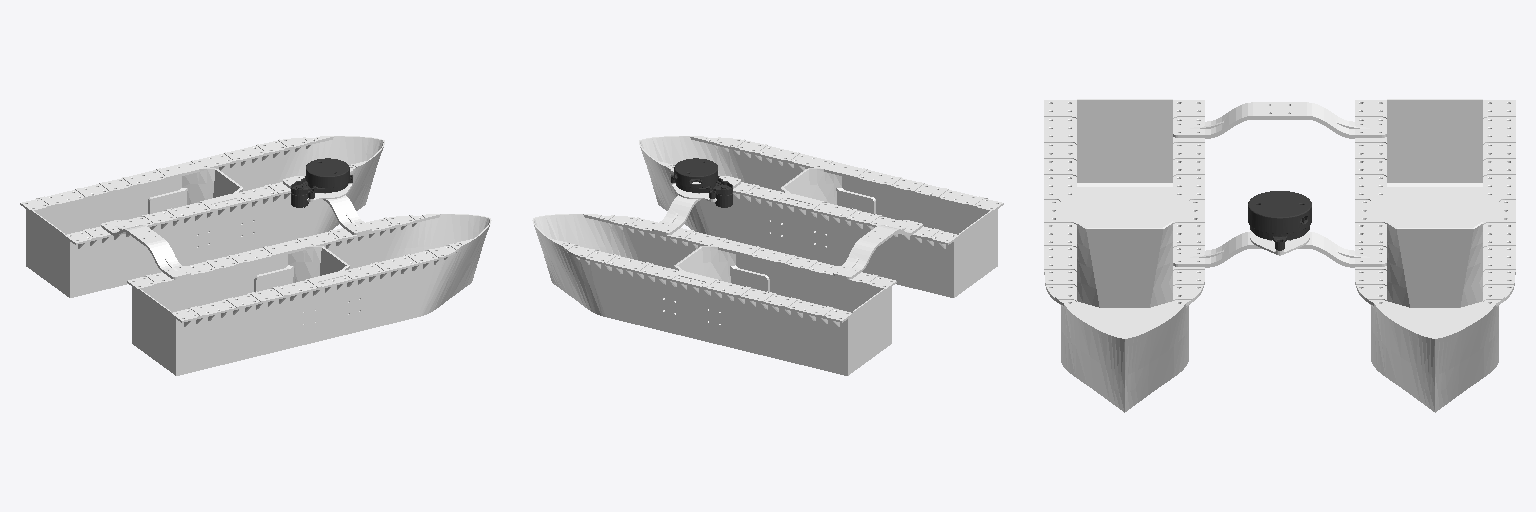
URDF robot description (zero_usv):
<?xml version="1.0" encoding="utf-8"?>
<!-- This URDF was automatically created by SolidWorks to URDF Exporter! Originally created by Stephen Brawner (brawner@gmail.com) 
     Commit Version: 1.6.0-4-g7f85cfe  Build Version: 1.6.7995.38578
     For more information, please see http://wiki.ros.org/sw_urdf_exporter -->
<robot name="zero_usv">
  <!-- Main hull link and root TF frame for the whole USV model. -->
  <!-- 主船体 link，也是整艘无人船模型的根 TF 坐标系。 -->
  <link name="zero_base_link">
    <!-- SolidWorks-derived inertia rotated into the ROS frame: X forward, Y left, Z up. -->
    <!-- 由 SolidWorks 导出的惯性参数已旋转到 ROS 坐标系：X 向前，Y 向左，Z 向上。 -->
    <inertial>
      <origin xyz="-0.045088 7.9421E-06 -0.11736" rpy="0 0 0" />
      <mass value="1.1082" />
      <inertia
        ixx="0.0097897"
        ixy="-1.2921E-07"
        ixz="-1.606E-05"
        iyy="0.0082134"
        iyz="-8.9546E-07"
        izz="0.0038758" />
    </inertial>
    <!-- Visual geometry controls how the hull appears in RViz/Gazebo. -->
    <!-- visual 几何用于控制船体在 RViz/Gazebo 中的显示效果。 -->
    <visual>
      <origin
        xyz="0 0 0"
        rpy="0 0 1.5708" />
      <geometry>
        <mesh filename="package://zero_description/meshes/hull/zero_base_link.STL" />
      </geometry>
      <material name="hull_white">
        <color rgba="1 1 1 1" />
      </material>
    </visual>
    <!-- Collision geometry is used by physics engines; currently it reuses the visual mesh. -->
    <!-- collision 几何用于物理碰撞；当前暂时复用显示用 STL 模型。 -->
    <collision>
      <origin
        xyz="0 0 0"
        rpy="0 0 1.5708" />
      <geometry>
        <mesh filename="package://zero_description/meshes/hull/zero_base_link.STL" />
      </geometry>
    </collision>
  </link>

  <!-- Lidar sensor body mounted on top of the hull. -->
  <!-- 安装在船体上方的激光雷达本体。 -->
  <link name="lidar_link">
    <inertial>
      <origin xyz="-0.0183959941257542 0.00023352885418041 -0.00147999606627041" rpy="3.1416 0 3.1416" />
      <mass value="0.0262287989499033" />
      <inertia
        ixx="6.04991313992353E-06"
        ixy="3.02874322805109E-08"
        ixz="-1.78278600148798E-06"
        iyy="1.47335238602447E-05"
        iyz="1.50099526509734E-08"
        izz="1.83874504860226E-05" />
    </inertial>
    <visual>
      <origin
        xyz="0 0 0"
        rpy="3.1416 0 3.1416" />
      <geometry>
        <mesh filename="package://zero_description/meshes/sensors/lidar.STL" />
      </geometry>
      <material name="lidar_gray">
        <color rgba="0.298039215686275 0.298039215686275 0.298039215686275 1" />
      </material>
    </visual>
    <collision>
      <origin
        xyz="0 0 0"
        rpy="3.1416 0 3.1416" />
      <geometry>
        <mesh filename="package://zero_description/meshes/sensors/lidar.STL" />
      </geometry>
    </collision>
  </link>
  <!-- Fixed joint keeps the lidar frame ROS-aligned; mesh orientation stays in visual/collision. -->
  <!-- 固定关节让雷达 frame 保持 ROS 坐标语义；模型外观旋转放在 visual/collision 中。 -->
  <joint name="zero_lidar_fixed_joint" type="fixed">
    <origin xyz="-0.00015 -0.00040397 0.1277" rpy="0 0 0" />
    <parent link="zero_base_link" />
    <child link="lidar_link" />
  </joint>

  <link name="laser_frame" />
  <joint name="zero_laser_frame_fixed_joint" type="fixed">
    <origin xyz="0 0 0" rpy="0 0 0" />
    <parent link="lidar_link" />
    <child link="laser_frame" />
  </joint>

  <link name="imu_link" />
  <joint name="zero_imu_fixed_joint" type="fixed">
    <origin xyz="0.15 0 0.13" rpy="0 0 0" />
    <parent link="zero_base_link" />
    <child link="imu_link" />
  </joint>

  <!-- Left propulsion/motor visual body. -->
  <!-- 左侧推进器/电机的可视化本体。 -->
  <link name="left_motor_link">
    <inertial>
      <origin xyz="0 0.0015 0" rpy="1.5708 0 3.1416" />
      <mass value="0.00876597344572538" />
      <inertia
        ixx="6.55272294398933E-07"
        ixy="4.60119215732622E-21"
        ixz="-1.5622785548308E-21"
        iyy="7.13102337972599E-06"
        iyz="-4.39063486930125E-22"
        izz="7.77314671395633E-06" />
    </inertial>
    <visual>
      <origin
        xyz="0 0 0"
        rpy="1.5708 0 3.1416" />
      <geometry>
        <mesh filename="package://zero_description/meshes/propeller/left_motor_link.STL" />
      </geometry>
      <material name="motor_white">
        <color rgba="1 1 1 1" />
      </material>
    </visual>
    <collision>
      <origin
        xyz="0 0 0"
        rpy="1.5708 0 3.1416" />
      <geometry>
        <mesh filename="package://zero_description/meshes/propeller/left_motor_link.STL" />
      </geometry>
    </collision>
  </link>
  <!-- Fixed joint keeps the motor frame ROS-aligned; mesh orientation stays in visual/collision. -->
  <!-- 固定关节让电机 frame 保持 ROS 坐标语义；模型外观旋转放在 visual/collision 中。 -->
  <joint name="left_motor_fixed_joint" type="fixed">
    <origin xyz="-0.111 0.202 0.04" rpy="0 0 0" />
    <parent link="zero_base_link" />
    <child link="left_motor_link" />
  </joint>

  <!-- Right propulsion/motor visual body; inertial values still need real verification. -->
  <!-- 右侧推进器/电机的可视化本体；惯性参数后续仍需实物核对。 -->
  <link name="right_motor_link">
    <inertial>
      <origin xyz="0 0 0" rpy="0 0 0" />
      <mass value="0" />
      <inertia
        ixx="0"
        ixy="0"
        ixz="0"
        iyy="0"
        iyz="0"
        izz="0" />
    </inertial>
    <visual>
      <origin
        xyz="0 0 0"
        rpy="1.5708 0 3.1416" />
      <geometry>
        <mesh filename="package://zero_description/meshes/propeller/right_motor_link.STL" />
      </geometry>
      <material name="motor_white">
        <color rgba="1 1 1 1" />
      </material>
    </visual>
    <collision>
      <origin
        xyz="0 0 0"
        rpy="1.5708 0 3.1416" />
      <geometry>
        <mesh filename="package://zero_description/meshes/propeller/right_motor_link.STL" />
      </geometry>
    </collision>
  </link>
  <!-- Fixed joint keeps the motor frame ROS-aligned; mesh orientation stays in visual/collision. -->
  <!-- 固定关节让电机 frame 保持 ROS 坐标语义；模型外观旋转放在 visual/collision 中。 -->
  <joint name="right_motor_fixed_joint" type="fixed">
    <origin xyz="-0.111 -0.205 0.04" rpy="0 0 0" />
    <parent link="zero_base_link" />
    <child link="right_motor_link" />
  </joint>
</robot>

--- What the picture shows (computed from the rendered views, not written in the file) ---
The picture shows the robot from 3 angles, left to right: view 1: azimuth 30°, elevation 25°; view 2: azimuth 150°, elevation 25°; view 3: azimuth 270°, elevation 25°; orthographic projection.
Model zero_usv with 6 links and 5 joints (5 fixed), rooted at zero_base_link, posed every joint at zero.
Links seen in each view (by area): view 1: zero_base_link, lidar_link, right_motor_link; view 2: zero_base_link, lidar_link, left_motor_link; view 3: zero_base_link, lidar_link.
Link boxes in pixels (left/top/right/bottom): zero_base_link: left=20, top=136, right=491, bottom=375; lidar_link: left=291, top=158, right=352, bottom=207; right_motor_link: left=300, top=295, right=363, bottom=328; zero_base_link: left=532, top=136, right=1003, bottom=375; lidar_link: left=671, top=158, right=732, bottom=207; left_motor_link: left=660, top=295, right=723, bottom=328; zero_base_link: left=1044, top=99, right=1515, bottom=412; lidar_link: left=1248, top=191, right=1311, bottom=250.
Size in the robot's own frame: 0.53 by 0.44 by 0.1482 metres.
Meshes: 4 distinct files referenced, 4 mesh visuals loaded (4 binary STL).
